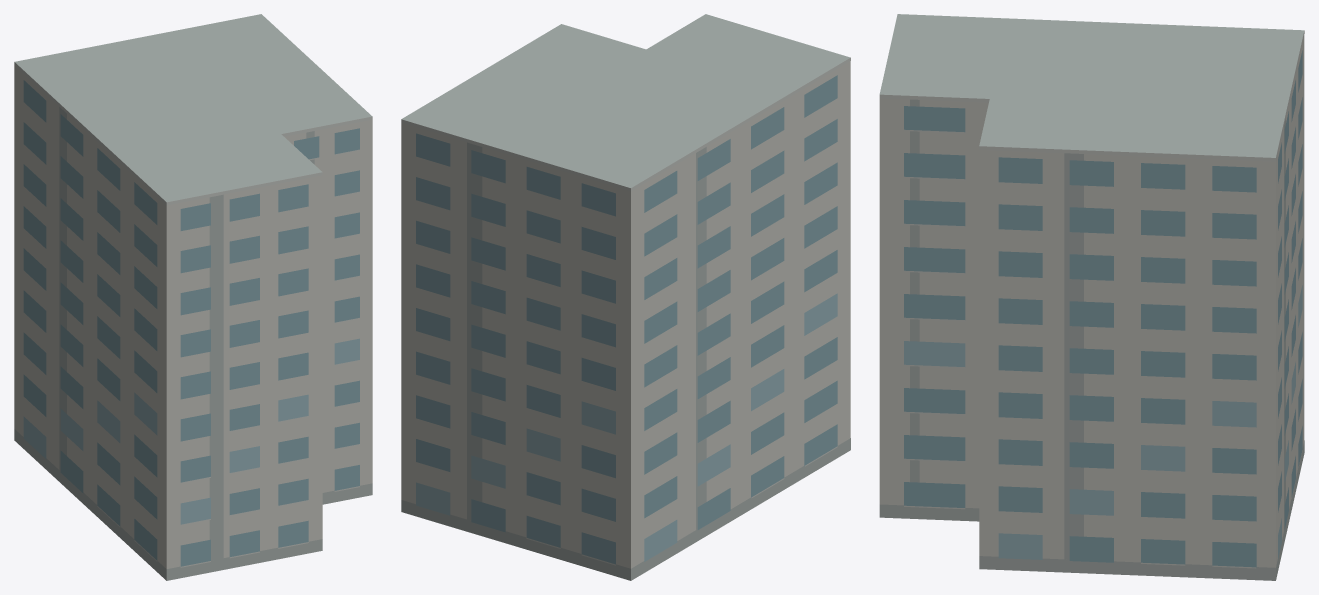
The model's file is residential-c26ce9f2-3786-4127-a81c-f89b81c761d1.glb.
3 renders of one model, left to right at view 1: azimuth 30°, elevation 25°; view 2: azimuth 150°, elevation 25°; view 3: azimuth 270°, elevation 25°, orthographic. The views are drawn at different scales.
Visible parts, largest first — view 1: residential-c26ce9f2-3786-4127-a81c-f89b81c761d1.tmp; view 2: residential-c26ce9f2-3786-4127-a81c-f89b81c761d1.tmp; view 3: residential-c26ce9f2-3786-4127-a81c-f89b81c761d1.tmp.
Boxes of the visible parts, x1=… form: residential-c26ce9f2-3786-4127-a81c-f89b81c761d1.tmp: x1=14, y1=14, x2=372, y2=580; residential-c26ce9f2-3786-4127-a81c-f89b81c761d1.tmp: x1=401, y1=14, x2=850, y2=580; residential-c26ce9f2-3786-4127-a81c-f89b81c761d1.tmp: x1=879, y1=14, x2=1304, y2=580.
Bounding box in the file's own units: 20.45 × 28 × 25.5.
